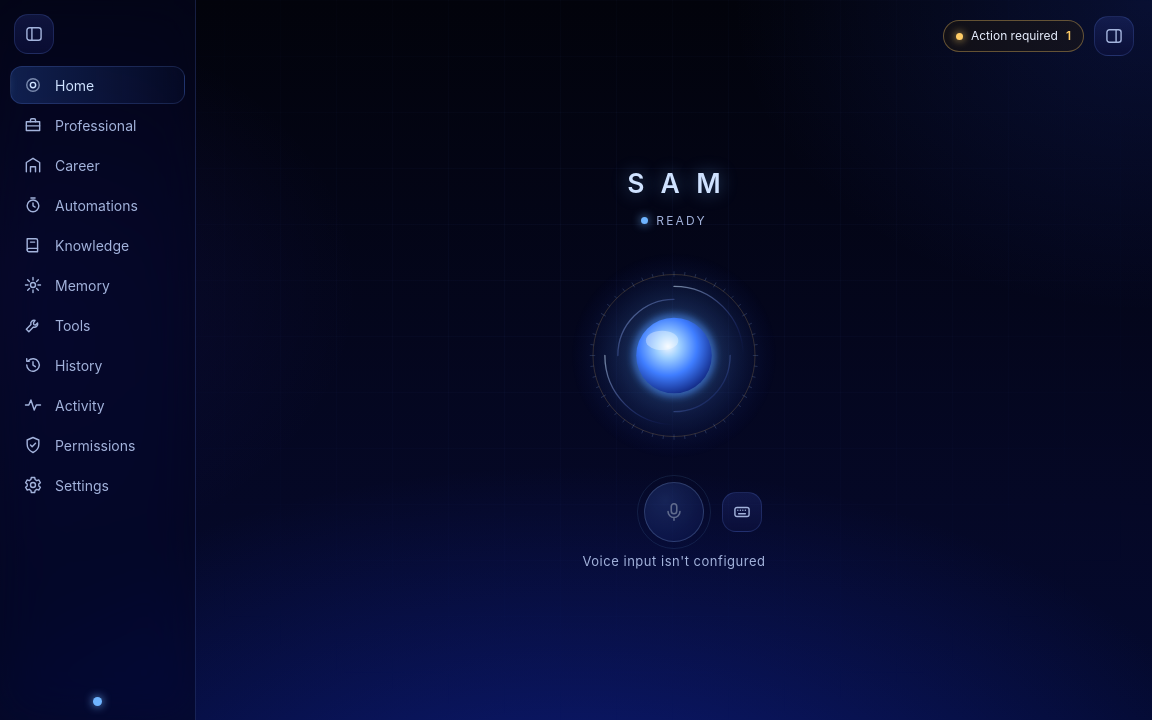
Test: system health › an unknown reason code is shown generically, never verbatim
Expected: the message named "Connection:" is shown, [93,697,102,706]
Click the button named "Show system panel". click: (1114, 36)
box: [1094,16,1134,56]
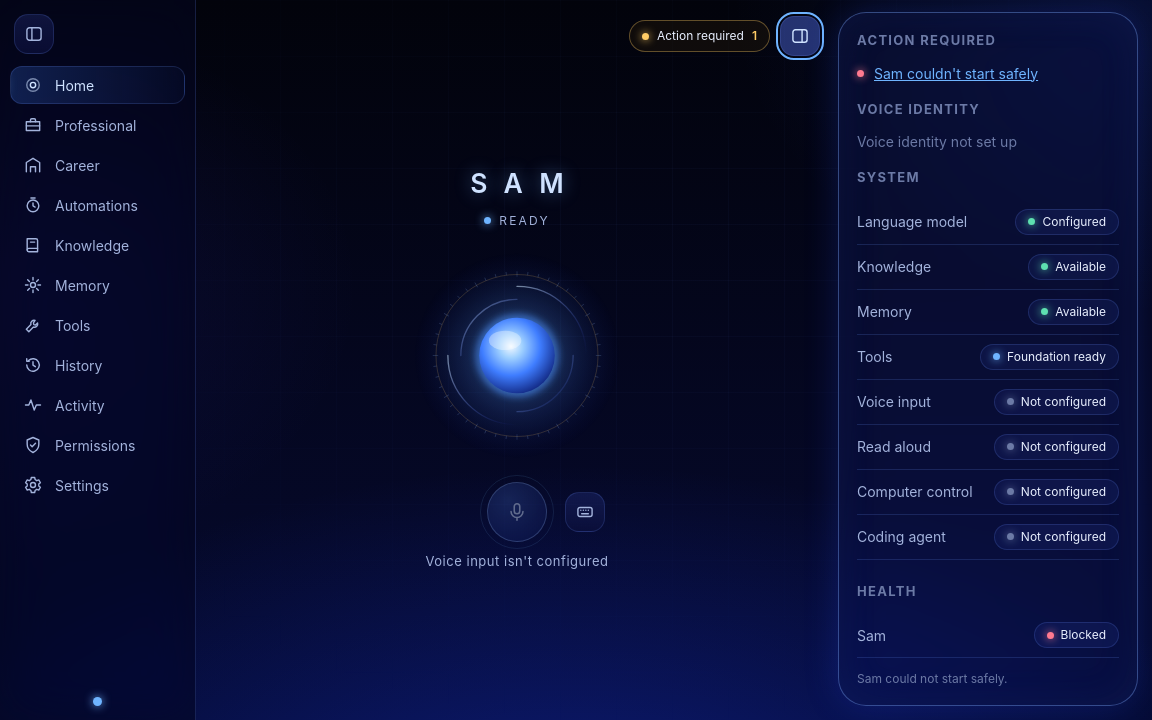
Result: the text "Sam could not start safely." is shown at [857,671,1008,686]
